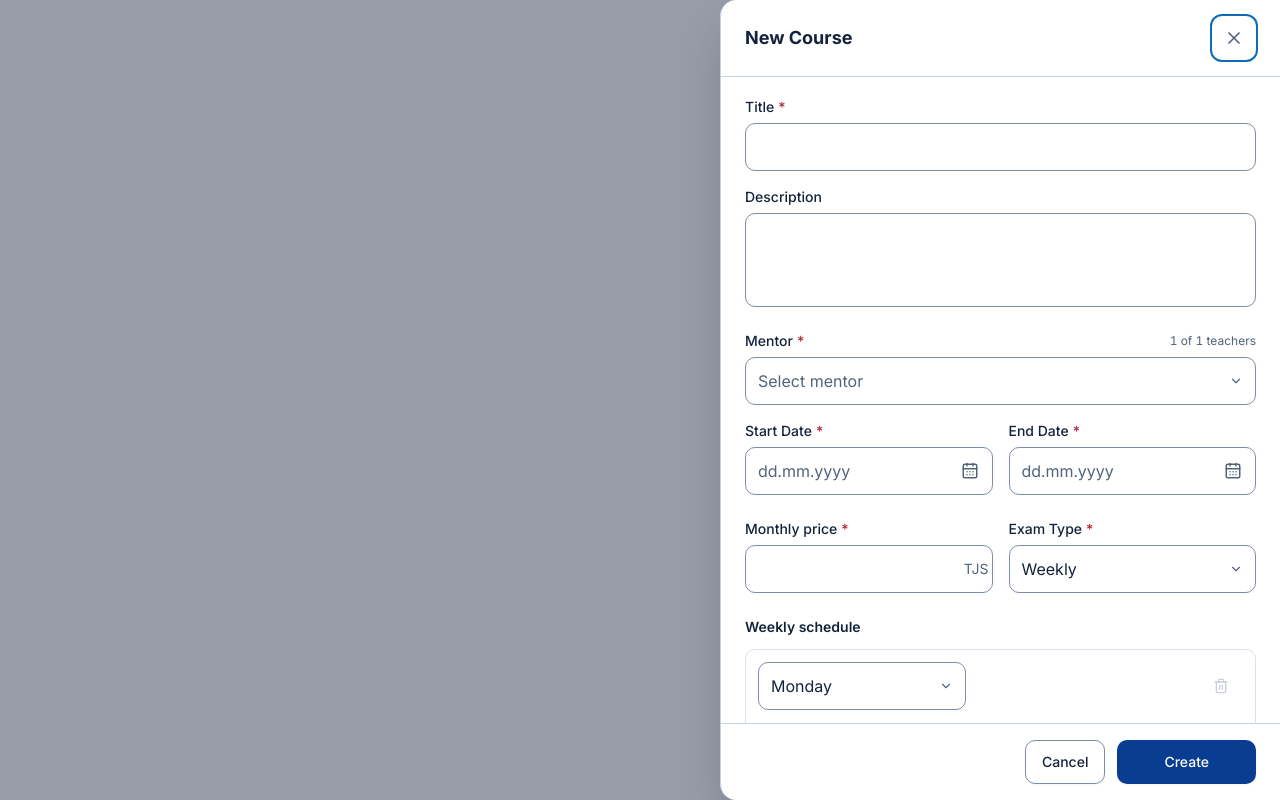
Test case: restores focus to edited field when keep editing is clicked on discard confirm
Type "Draft to keep" into the field labelled "Title*" at (1000, 147), box [745,123,1256,171]
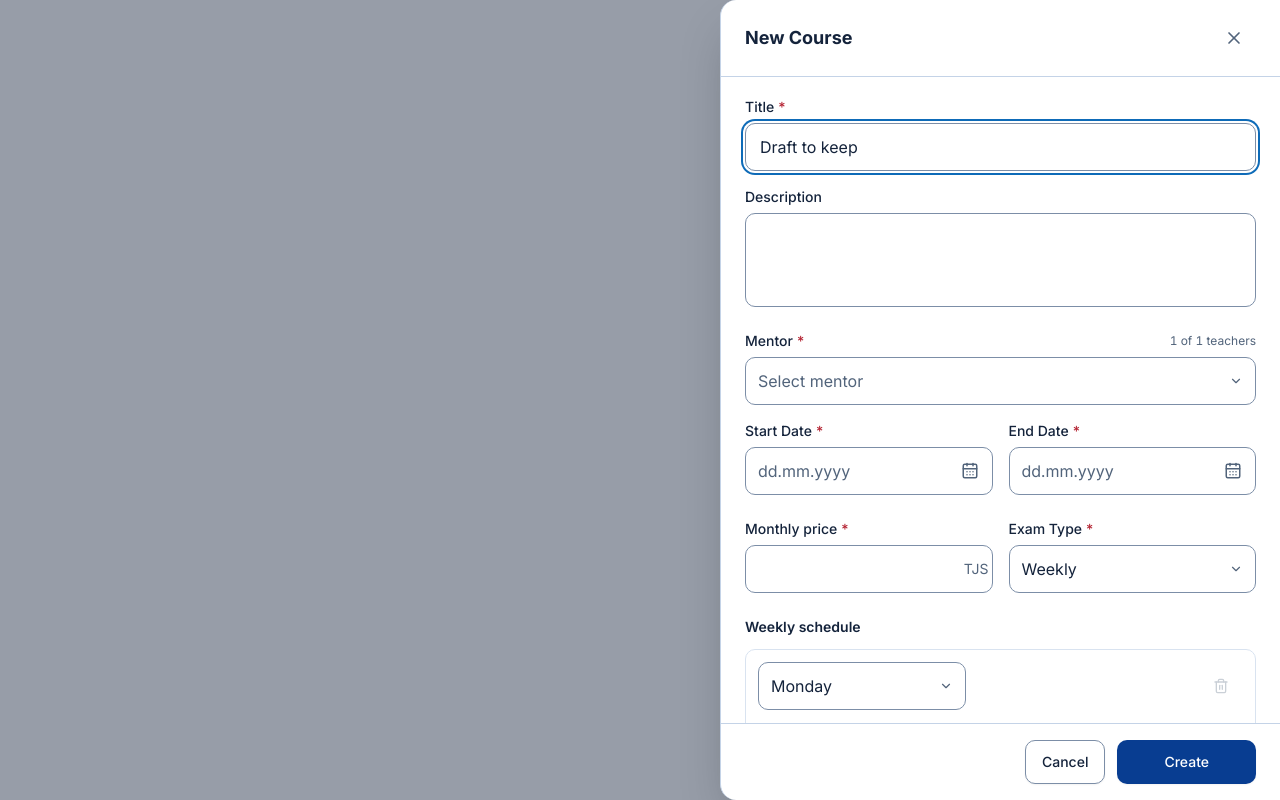
Click the button named "Close" at (1234, 38), box [1212,16,1256,60]
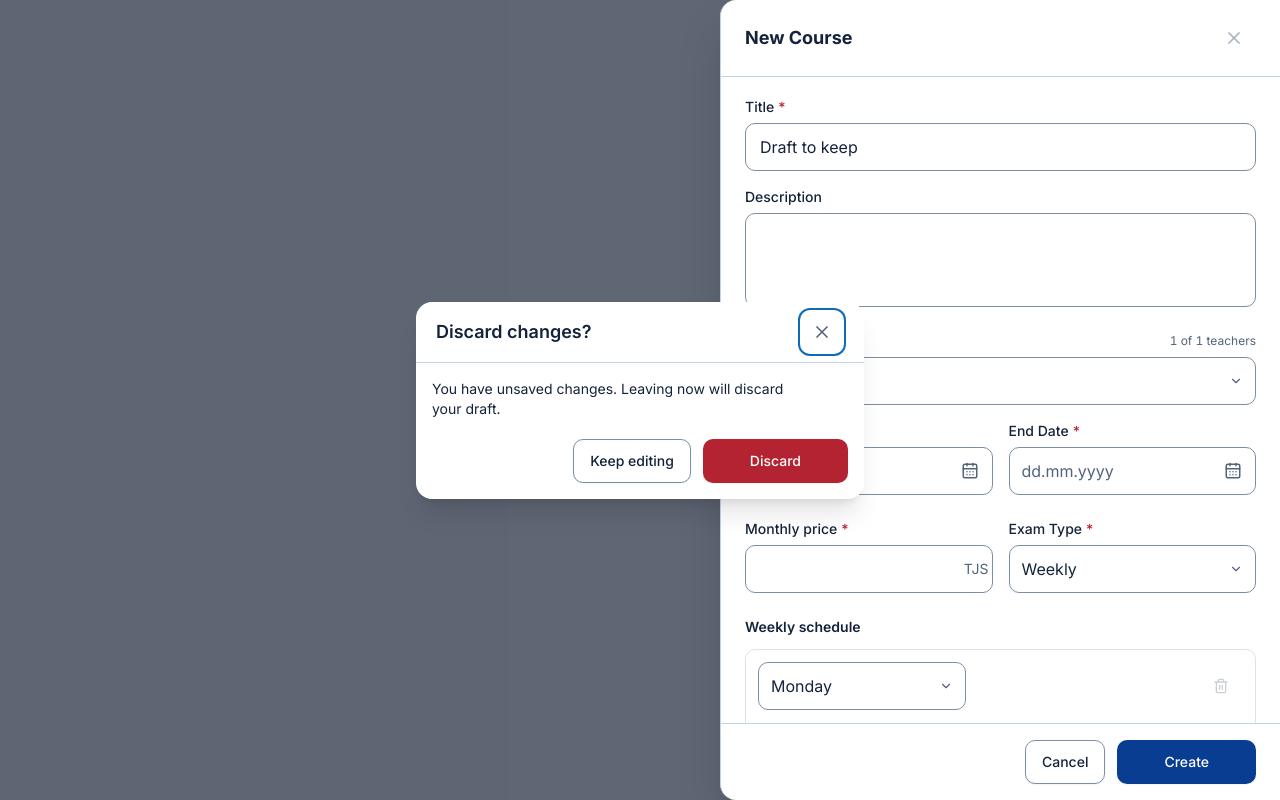
Click the button "Keep editing" at (632, 460), box [573,438,691,482]
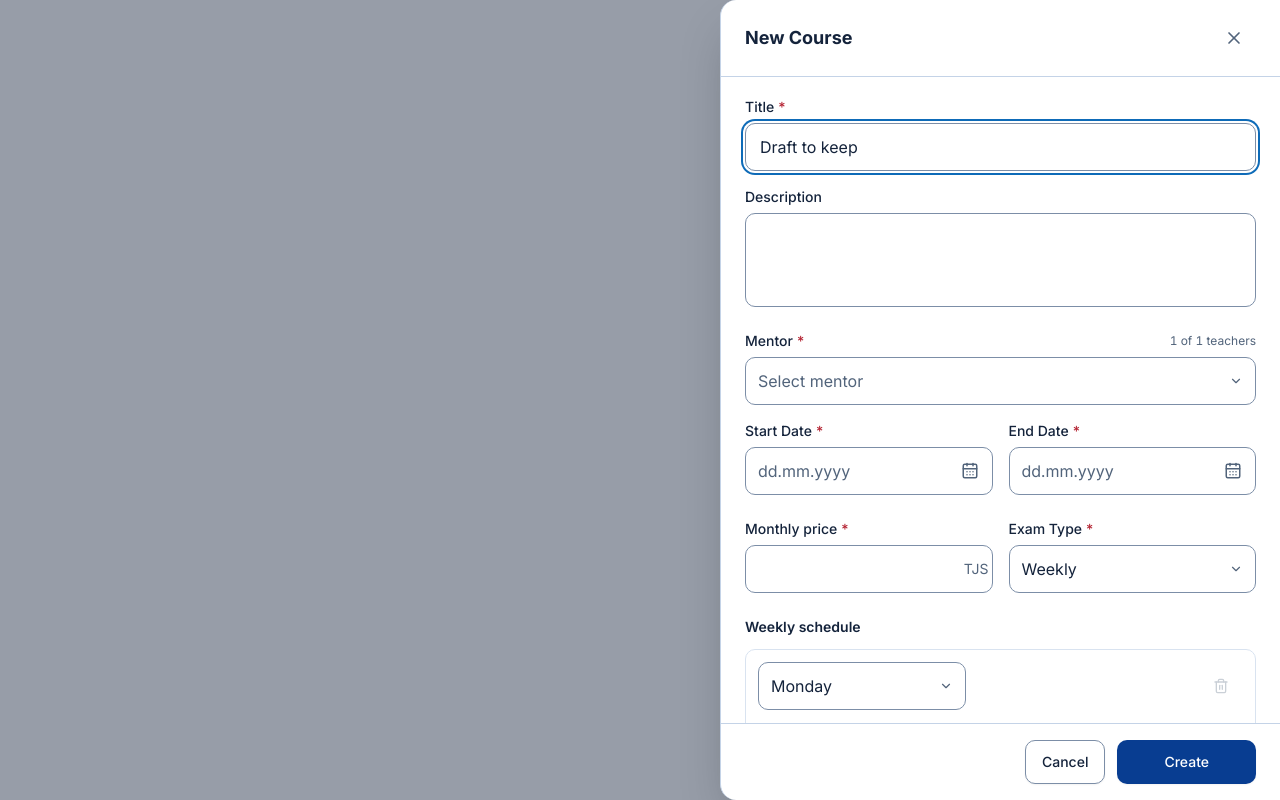
Expected: the heading "Discard changes?" is gone
